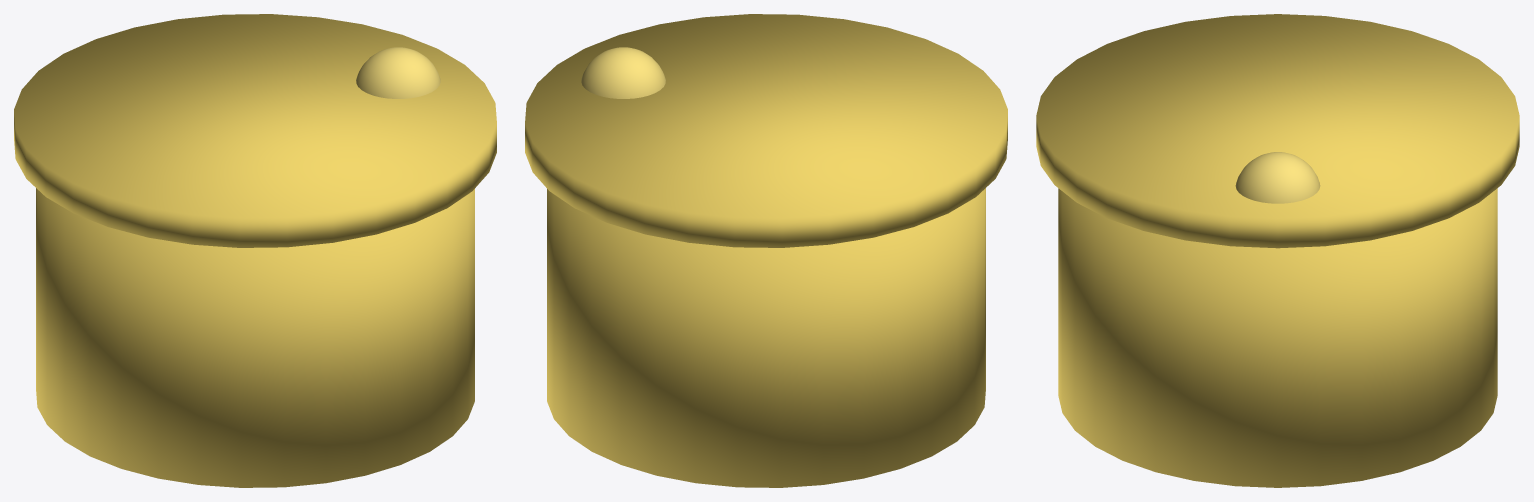
File: honey.glb
3 renders of one model, left to right at view 1: azimuth 30°, elevation 25°; view 2: azimuth 150°, elevation 25°; view 3: azimuth 270°, elevation 25°, orthographic.
Parts seen in each view (by area): view 1: HoneyPot, Rim, Drip; view 2: HoneyPot, Rim, Drip; view 3: HoneyPot, Rim, Drip.
Part boxes in pixels (left/top/right/bottom): HoneyPot: left=36, top=188, right=474, bottom=487; Rim: left=14, top=14, right=496, bottom=247; Drip: left=356, top=47, right=440, bottom=98; HoneyPot: left=547, top=188, right=985, bottom=487; Rim: left=525, top=14, right=1007, bottom=247; Drip: left=581, top=47, right=665, bottom=98; HoneyPot: left=1058, top=188, right=1497, bottom=487; Rim: left=1036, top=14, right=1519, bottom=248; Drip: left=1235, top=152, right=1320, bottom=203.
Size of the model in its own units: 0.44 by 0.31 by 0.44.
